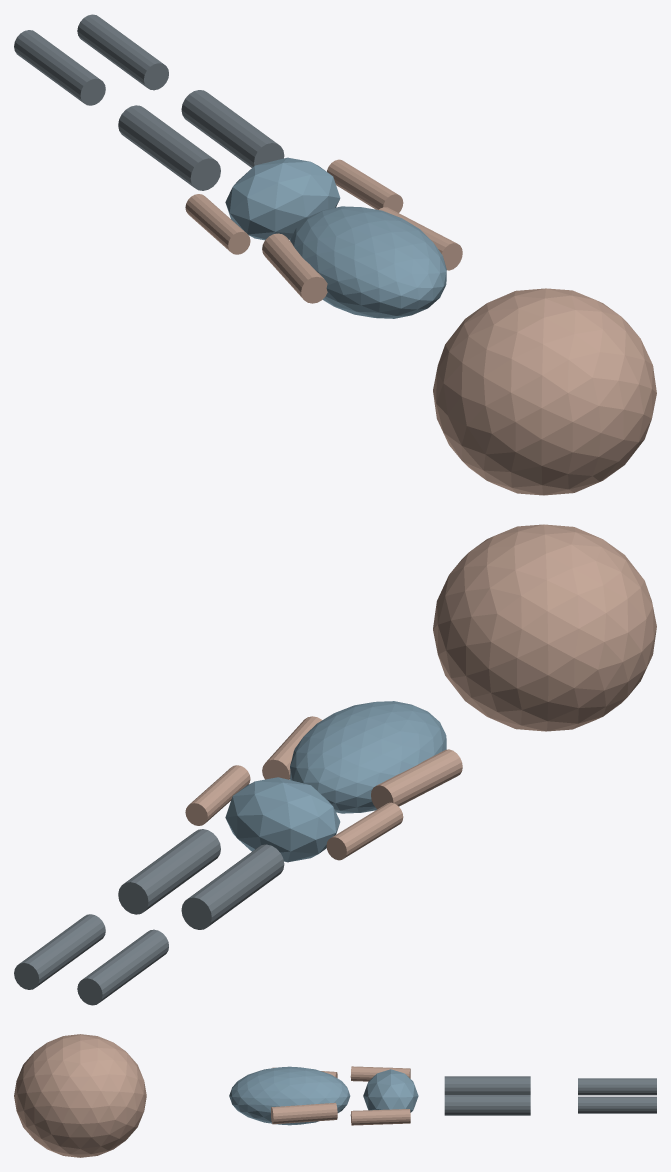
Rendered from newborn-medium.glb.
3 renders of one model, top to bottom at view 1: azimuth 30°, elevation 25°; view 2: azimuth 150°, elevation 25°; view 3: azimuth 270°, elevation 25°, orthographic. The views are drawn at different scales.
Visible parts, largest first — view 1: head, torso, pelvis, left_thigh, right_thigh, left_lower_leg, right_lower_leg, left_upper_arm, left_forearm, right_forearm, right_upper_arm; view 2: head, torso, pelvis, right_thigh, left_thigh, right_lower_leg, left_lower_leg, left_upper_arm, left_forearm, right_forearm, right_upper_arm; view 3: head, torso, right_thigh, pelvis, left_thigh, left_lower_leg, right_lower_leg, right_upper_arm, right_forearm, left_forearm.
Boxes of the visible parts, box(x1,y1,x2,y2) form: head: box(433, 288, 656, 495); torso: box(290, 206, 446, 318); pelvis: box(225, 157, 340, 240); left_thigh: box(118, 105, 220, 190); right_thigh: box(181, 90, 284, 167); left_lower_leg: box(14, 30, 105, 105); right_lower_leg: box(77, 14, 168, 90); left_upper_arm: box(262, 233, 327, 303); left_forearm: box(185, 194, 250, 254); right_forearm: box(327, 159, 403, 212); right_upper_arm: box(379, 207, 462, 270); head: box(433, 524, 656, 731); torso: box(290, 701, 446, 813); pelvis: box(225, 777, 340, 862); right_thigh: box(118, 829, 220, 914); left_thigh: box(181, 844, 284, 929); right_lower_leg: box(14, 914, 105, 989); left_lower_leg: box(77, 929, 168, 1005); left_upper_arm: box(371, 749, 462, 809); left_forearm: box(326, 802, 403, 860); right_forearm: box(185, 765, 250, 825); right_upper_arm: box(262, 716, 321, 779); head: box(14, 1034, 146, 1157); torso: box(229, 1066, 350, 1125); right_thigh: box(444, 1094, 530, 1115); pelvis: box(363, 1069, 418, 1112); left_thigh: box(444, 1076, 530, 1094); left_lower_leg: box(578, 1078, 656, 1095); right_lower_leg: box(578, 1096, 656, 1113); right_upper_arm: box(271, 1102, 337, 1124); right_forearm: box(350, 1109, 410, 1125); left_forearm: box(350, 1066, 410, 1081).
Bounding box in the file's own units: 0.92 × 0.8464 × 4.45.
